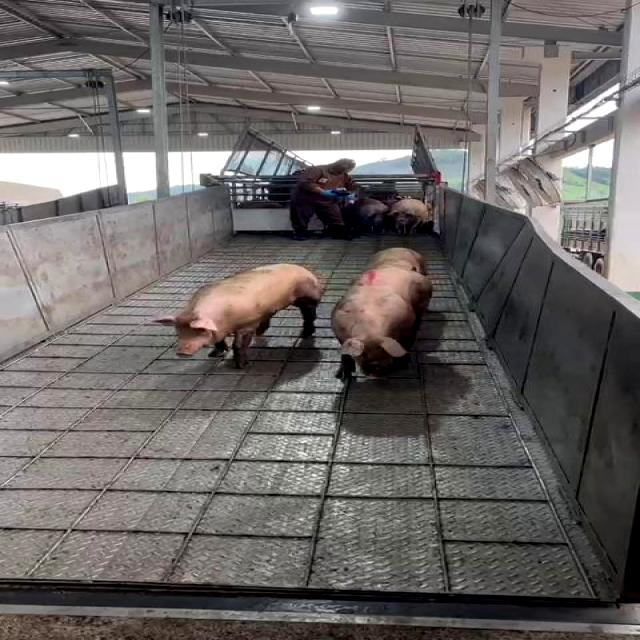pig: (158, 264, 323, 366), (332, 268, 431, 376), (367, 248, 426, 275)
